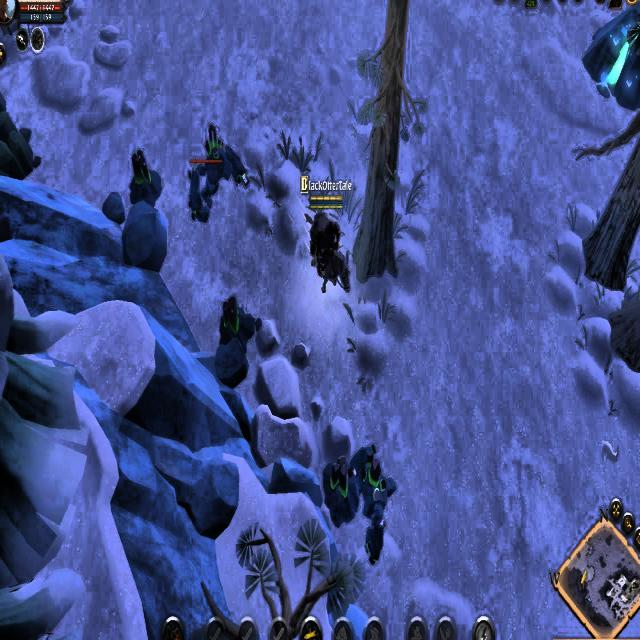sandstone: (0, 115, 42, 187), (0, 87, 16, 122)
tinore: (317, 450, 361, 520), (123, 140, 163, 210), (213, 297, 257, 348)
